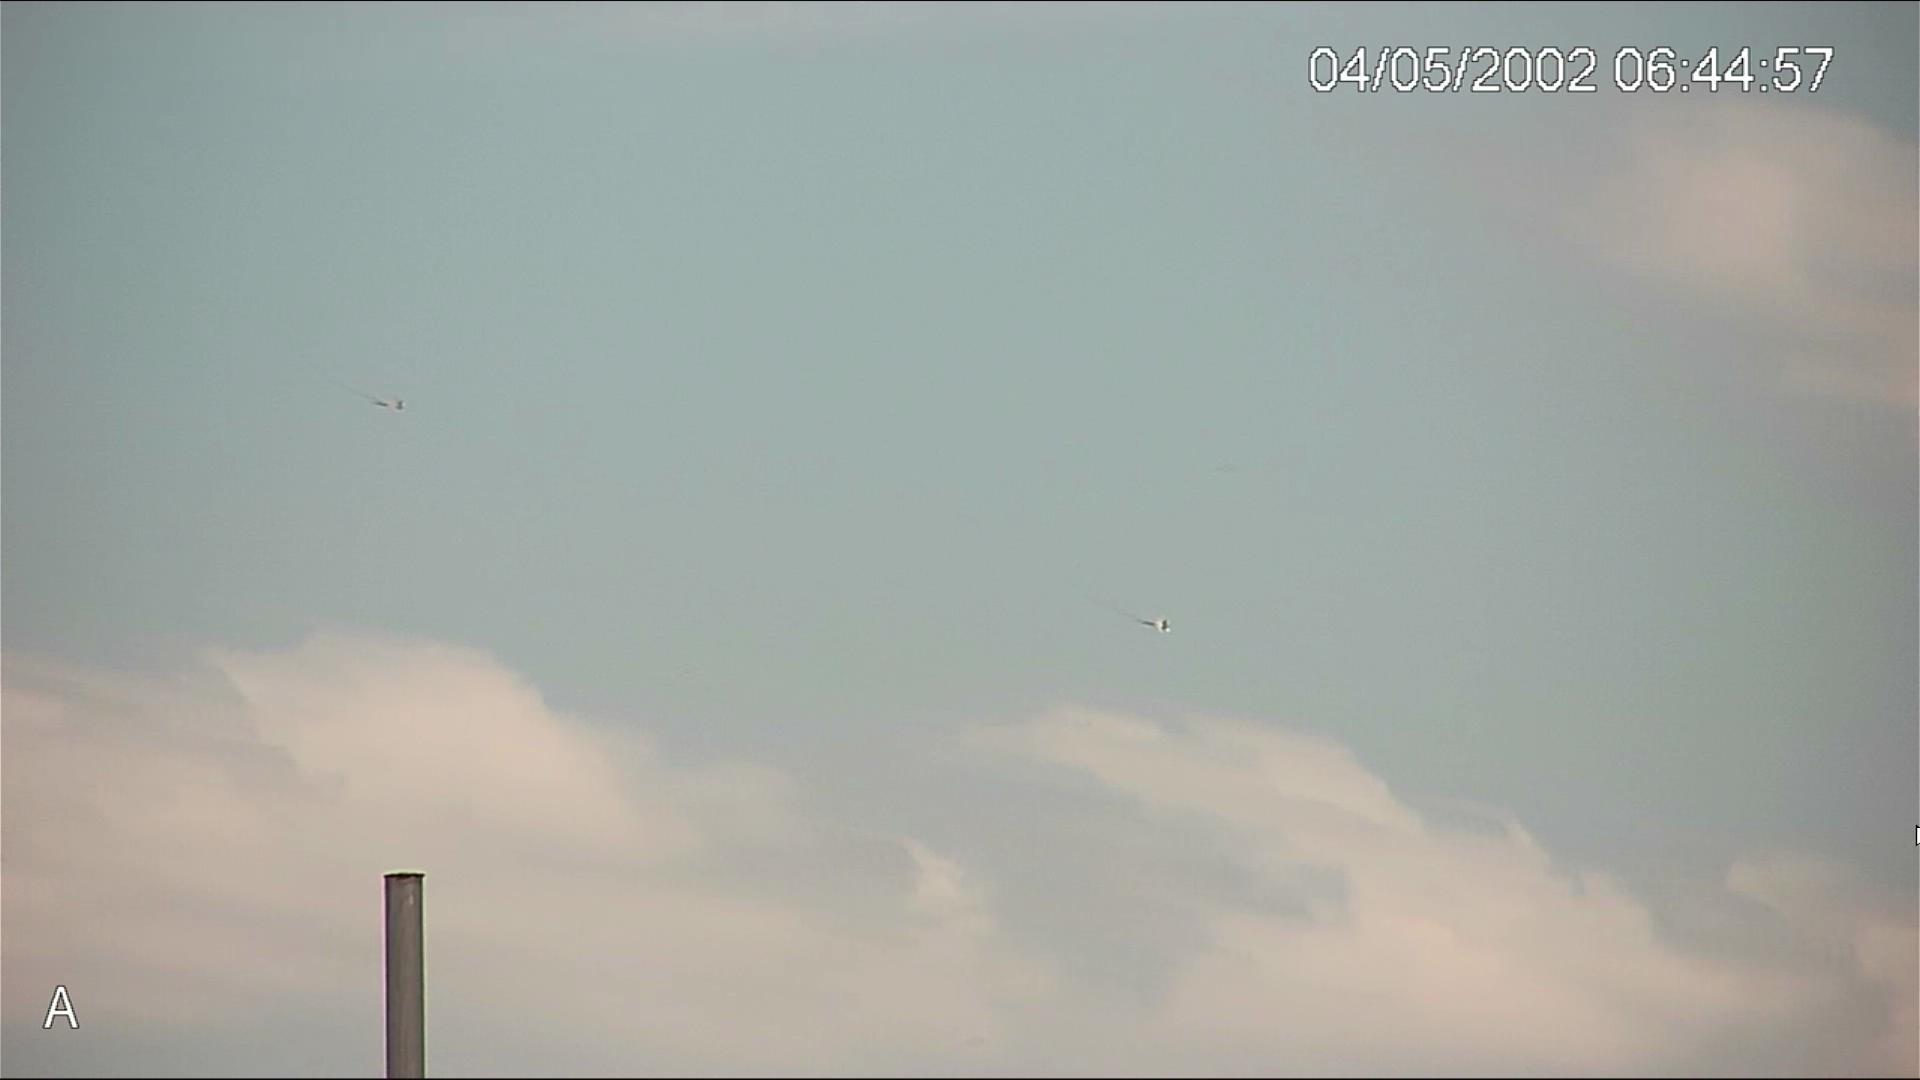SU_30: (1139, 618, 1172, 634), (371, 397, 405, 411)
